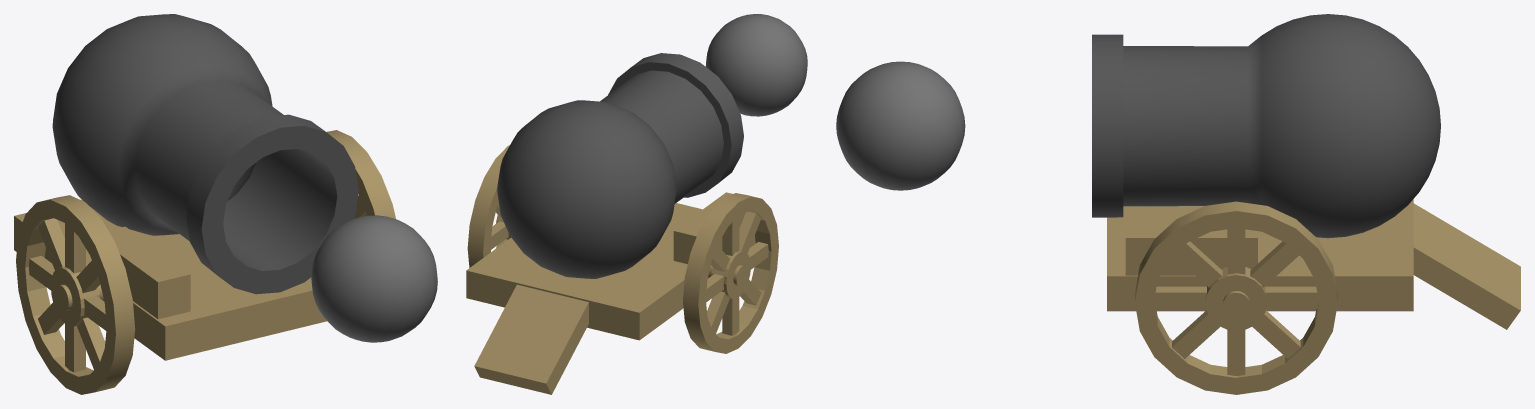
File: taihou.fbx
3 renders of one model, left to right at view 1: azimuth 30°, elevation 25°; view 2: azimuth 150°, elevation 25°; view 3: azimuth 270°, elevation 25°, orthographic. The views are drawn at different scales.
Visible parts, largest first — view 1: taihou7, taihou_ball, taihou25, taihou6, taihou21, taihou17, taihou15, taihou5, taihou12, taihou3, taihou16, taihou2 (+2 smaller); view 2: taihou7, taihou6, taihou18, taihou25, taihou_ball, taihou17, taihou21, taihou4, taihou12, taihou26, taihou3, taihou2 (+4 smaller); view 3: taihou7, taihou17, taihou_ball, taihou6, taihou18, taihou9, taihou19, taihou24, taihou14, taihou8, taihou10, taihou20 (+2 smaller).
Part boxes in pixels (x1,y1,x2,y2): taihou7: (52,14,358,294); taihou_ball: (311,215,437,342); taihou25: (16,195,135,394); taihou6: (14,199,326,360); taihou21: (108,226,190,319); taihou17: (326,130,395,218); taihou15: (38,218,64,270); taihou5: (77,317,105,369); taihou12: (65,324,85,372); taihou3: (65,223,85,273); taihou16: (28,256,54,290); taihou2: (84,295,106,330); taihou7: (497,53,743,278); taihou6: (466,203,755,340); taihou18: (474,284,588,394); taihou25: (683,193,778,353); taihou_ball: (705,14,807,116); taihou17: (467,145,510,267); taihou21: (673,192,745,264); taihou4: (739,211,760,253); taihou12: (722,297,739,335); taihou26: (707,291,729,333); taihou3: (722,216,739,255); taihou2: (747,242,768,269); taihou7: (1092,14,1440,238); taihou17: (1135,201,1337,394); taihou_ball: (836,61,965,190); taihou6: (1107,199,1413,311); taihou18: (1413,203,1520,329); taihou9: (1125,221,1257,275); taihou19: (1265,286,1318,308); taihou24: (1154,286,1206,308); taihou14: (1252,310,1300,358); taihou8: (1172,310,1220,358); taihou10: (1173,241,1222,287); taihou20: (1250,241,1298,287).
Size of the model in its own units: 160 by 154 by 318.
